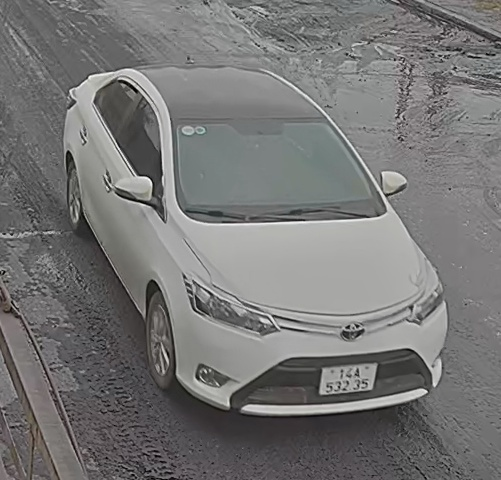vehicle plate: (314, 359, 381, 397)
